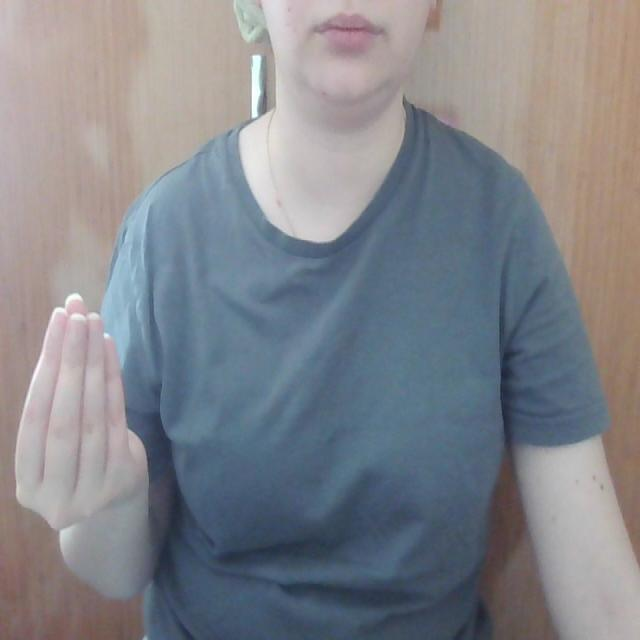iyi: (8, 286, 154, 532)
